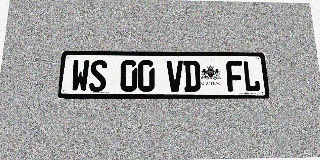0: (120, 60, 137, 92), (138, 60, 155, 92)
D: (183, 60, 201, 92)
F: (226, 61, 244, 92)
L: (242, 61, 261, 92)
S: (89, 60, 107, 92)
V: (167, 60, 184, 92)
W: (71, 60, 90, 92)
